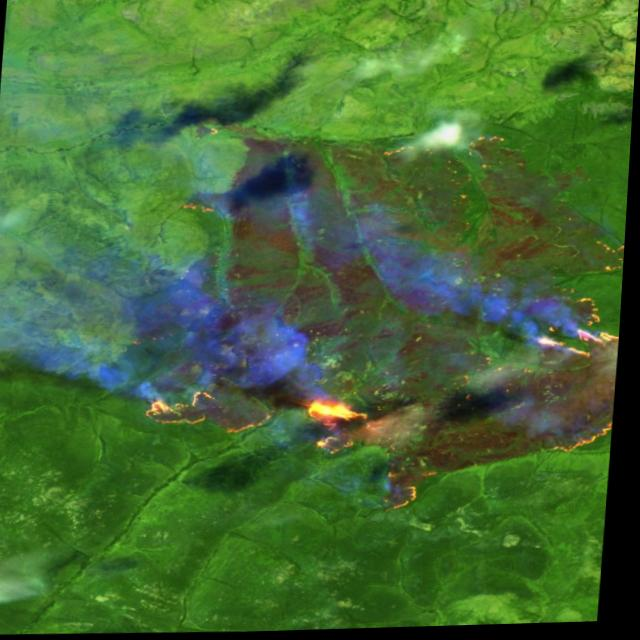fire: (130, 234, 628, 524)
